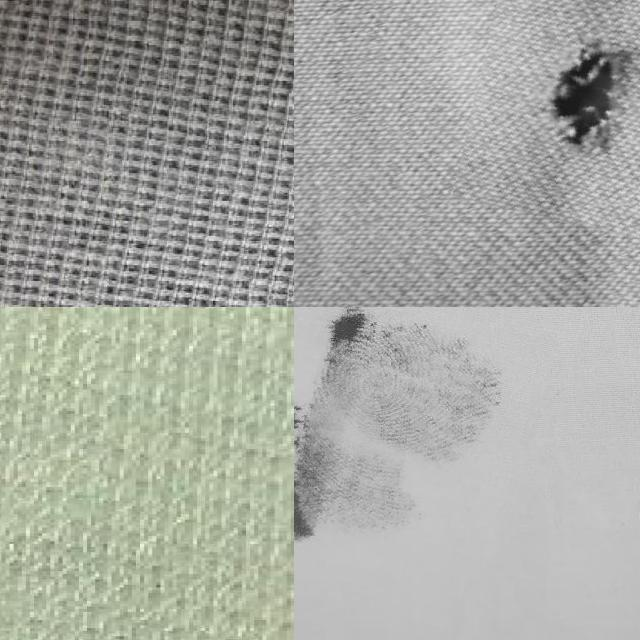Hole: (294, 307, 542, 637)
seam: (464, 0, 640, 233)
